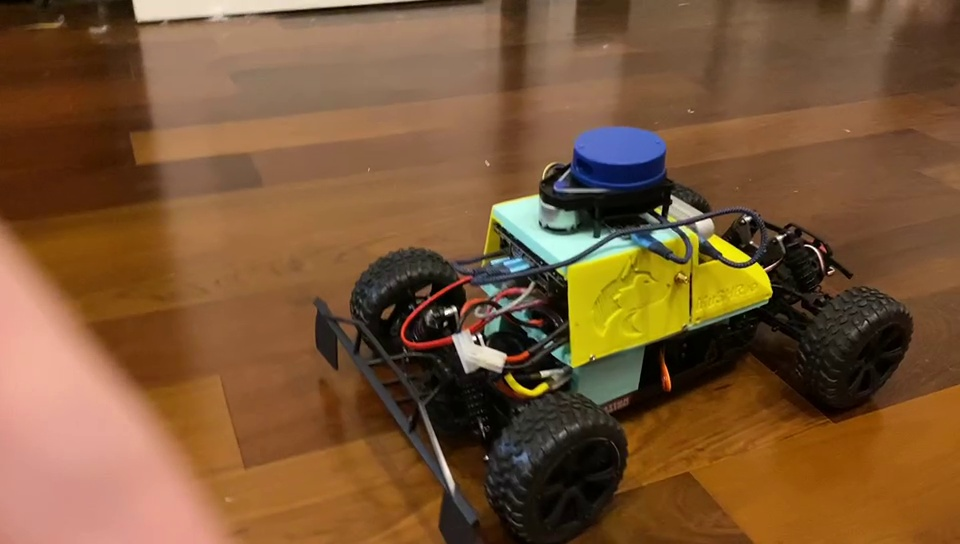mushr_car: (303, 126, 916, 543)
